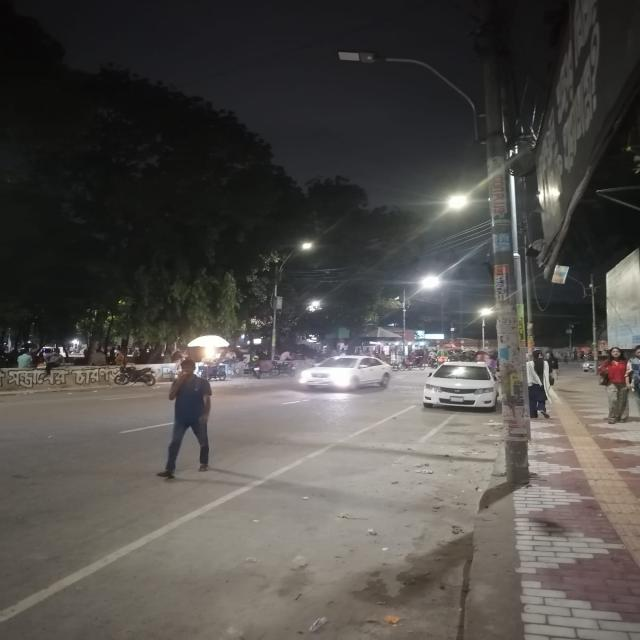person: (156, 358, 211, 479)
